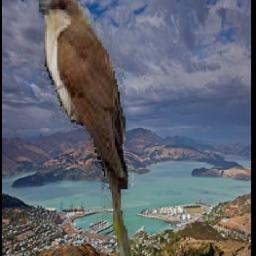Cuckoo: (37, 0, 134, 256)
